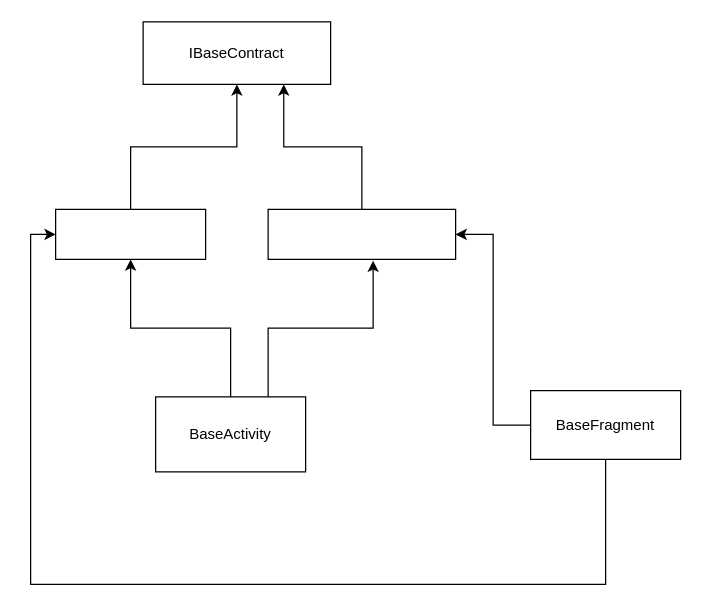
Some shapes in this 703 by 616 pixel diagram are drawn without their labels. Each missing label, with the box of its shape:
IBasePresenter: (267, 208, 456, 259)
IBaseView: (54, 208, 206, 259)
